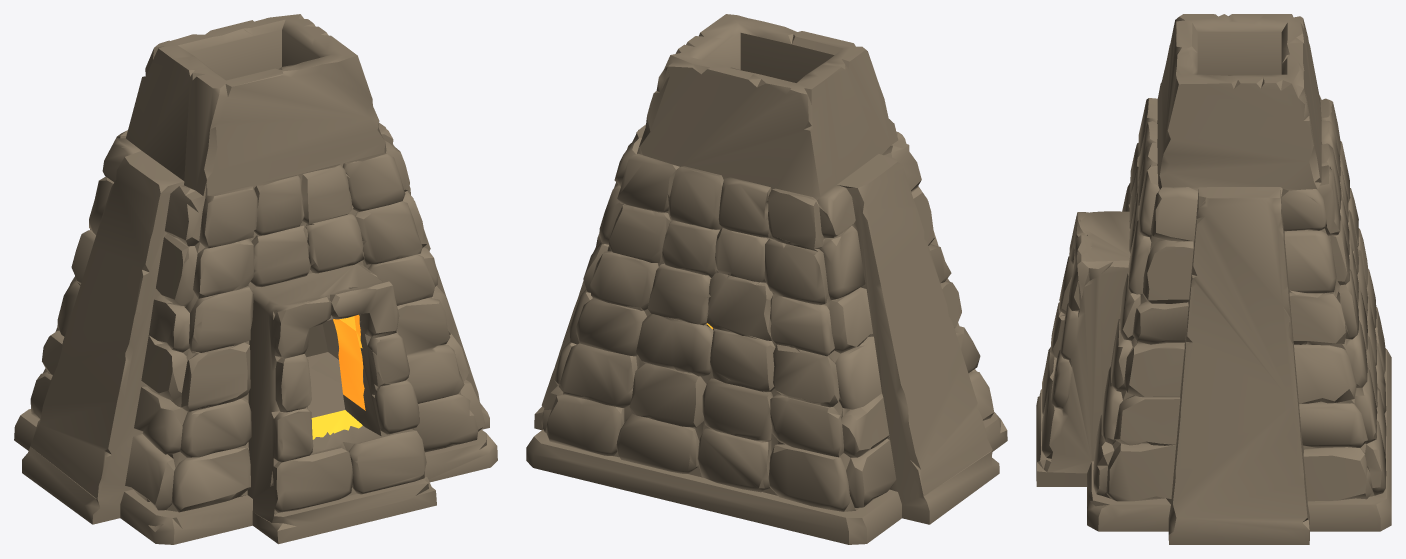
Rendered from stone-furnace.glb.
3 renders of one model, left to right at view 1: azimuth 30°, elevation 25°; view 2: azimuth 150°, elevation 25°; view 3: azimuth 270°, elevation 25°, orthographic.
Visible parts, largest first — view 1: body; view 2: body; view 3: body.
Part boxes in pixels (x1,y1,x2,y2): body: [14, 14, 497, 544]; body: [526, 14, 1007, 544]; body: [1036, 14, 1391, 544].
Size of the model in its own units: 1.56 by 1.5 by 1.21.
